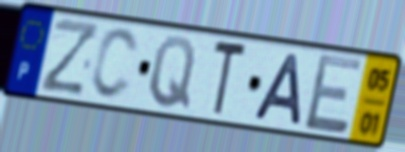A: (249, 51, 304, 127)
C: (88, 25, 141, 103)
E: (302, 51, 365, 137)
Q: (146, 34, 199, 113)
T: (209, 37, 250, 120)
Z: (37, 15, 102, 98)
